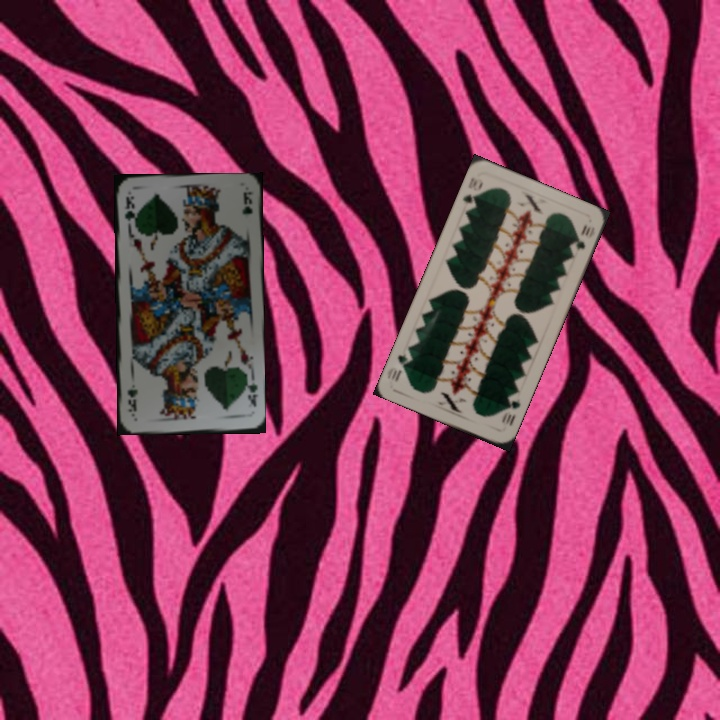G10: (458, 173, 486, 213), (497, 391, 523, 429)
GK: (241, 376, 261, 409), (121, 192, 137, 230)
